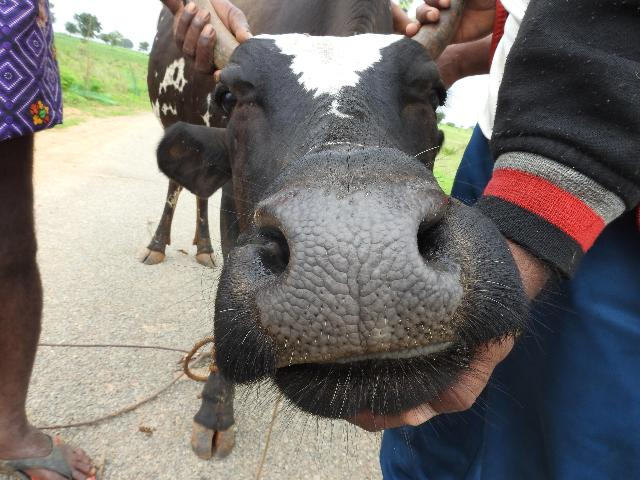Muzzle: (267, 194, 433, 358)
